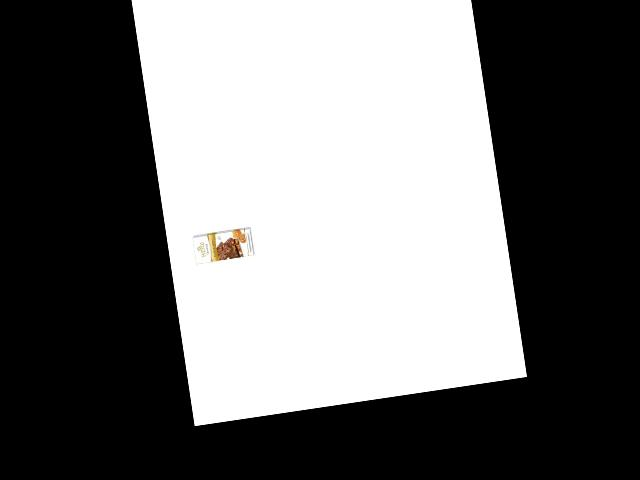chocolate: (189, 225, 256, 265)
